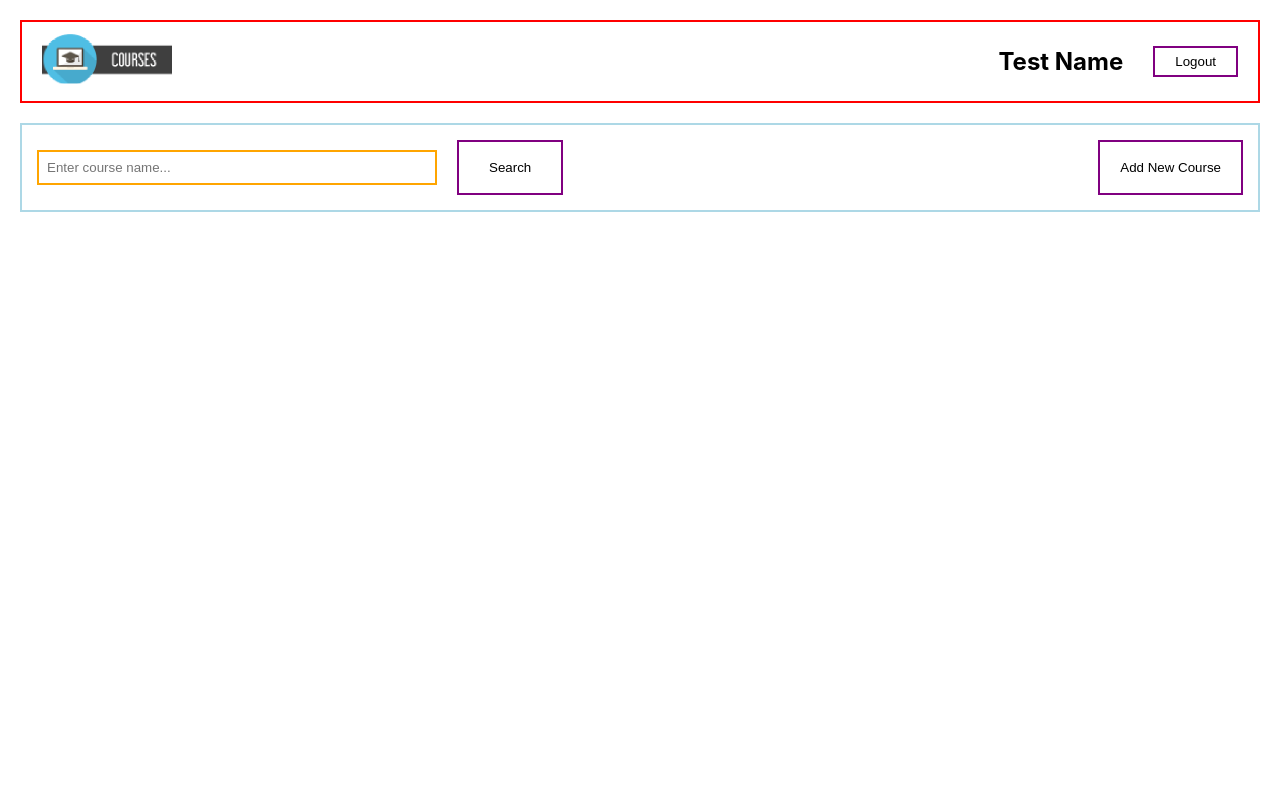
Test case: Courses component › should be showed after a click on a button "Add new course
This screenshot has width=1280, height=800.
Click the button "Add new course" at (1171, 167), box 1098,140 -> 1243,195
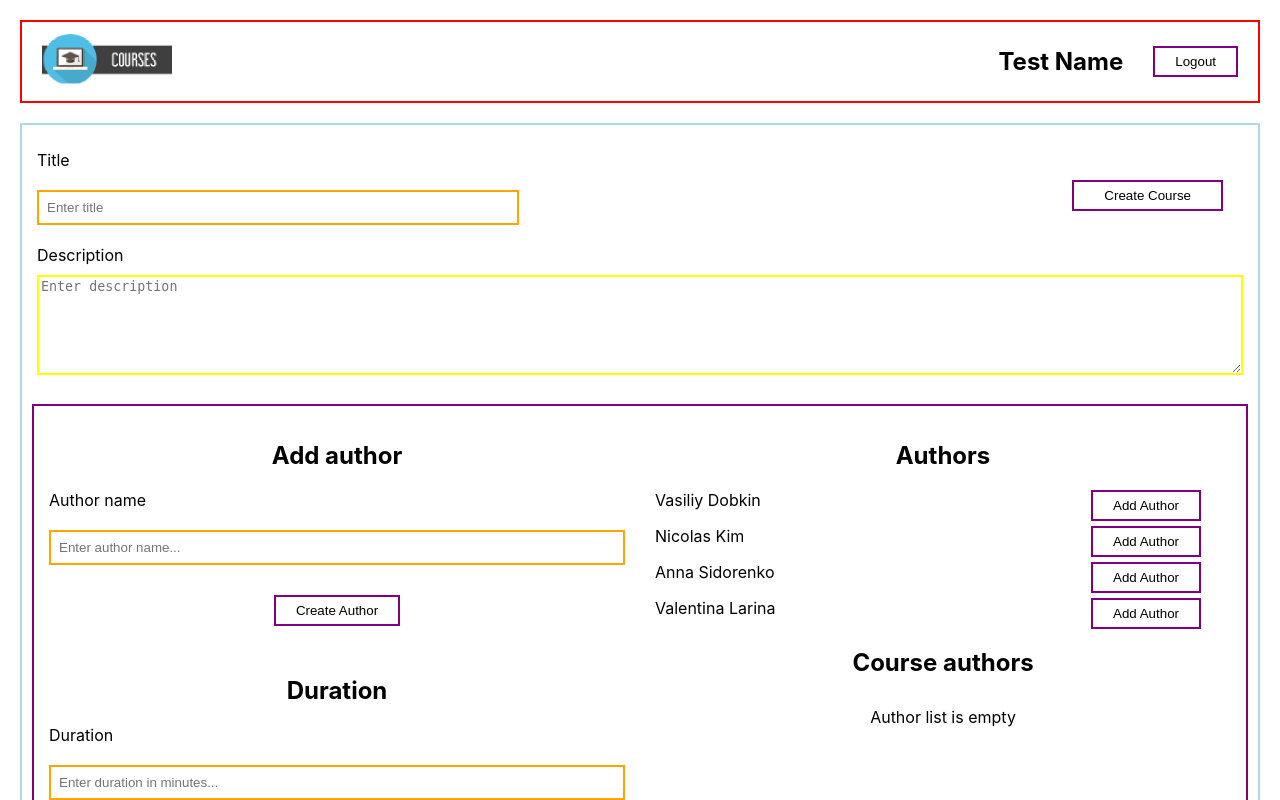
Expected: the button "Create course" is shown, 1072,180 -> 1223,211
